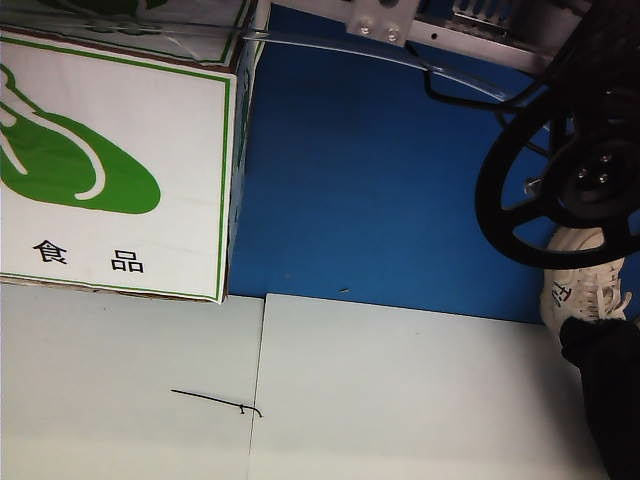Cube_food: (1, 62, 163, 286)
